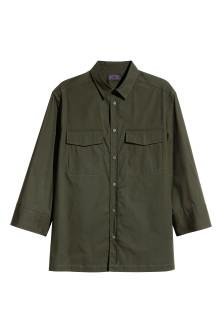teeshirt: (14, 59, 213, 284)
